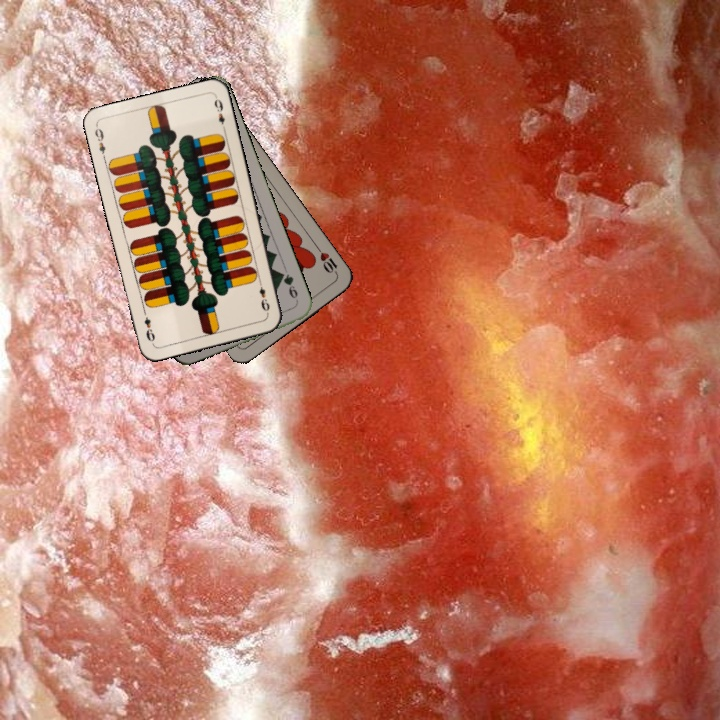E9: (90, 122, 108, 162), (255, 276, 272, 314)
G9: (276, 268, 301, 305)
H10: (312, 242, 341, 277)
